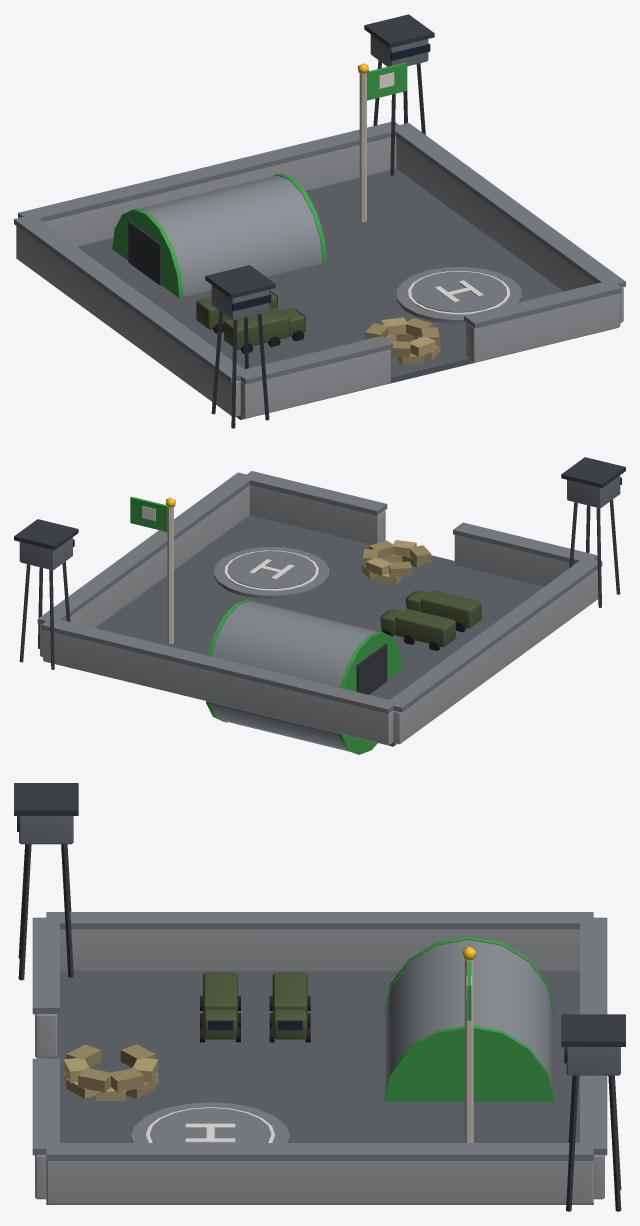
The model's file is military_base_modern_green.glb.
The picture shows the model from 3 angles, top to bottom: view 1: azimuth 30°, elevation 25°; view 2: azimuth 150°, elevation 25°; view 3: azimuth 270°, elevation 25°; orthographic projection. The views are drawn at different scales.
Visible parts, largest first — view 1: military_base_modern_green; view 2: military_base_modern_green; view 3: military_base_modern_green.
Boxes of the visible parts, left/top/right/bottom form: military_base_modern_green: left=14, top=14, right=625, bottom=428; military_base_modern_green: left=14, top=457, right=625, bottom=754; military_base_modern_green: left=14, top=783, right=625, bottom=1211.
Size of the model in its own units: 1.23 by 0.618 by 1.23.
Materials: 1 (1 with a texture image).
